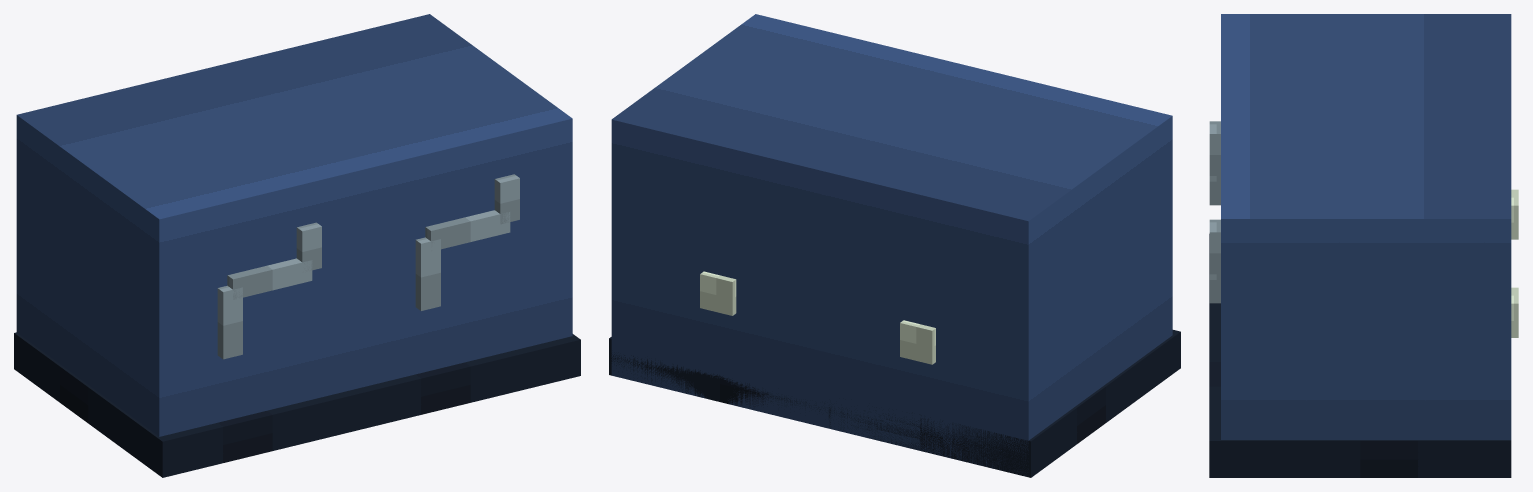
The model's file is yuanying_xinghe_boots.obj.
3 views of the same model, side by side, from view 1: azimuth 30°, elevation 25°; view 2: azimuth 150°, elevation 25°; view 3: azimuth 270°, elevation 25° (orthographic).
Visible parts, largest first — view 1: star_boot_-1, star_boot_1, star_sole_-1, star_sole_1, star_boot_mark_-1_1, star_boot_mark_1_1, star_boot_mark_-1_0, star_boot_mark_1_0, star_boot_mark_1_2, star_boot_mark_-1_2; view 2: star_boot_-1, star_boot_1, star_sole_-1, star_sole_1, star_heel_mark_1, star_heel_mark_-1; view 3: star_boot_1, star_boot_-1, star_sole_1, star_boot_mark_1_2, star_boot_mark_-1_2, star_sole_-1, star_heel_mark_-1, star_heel_mark_1.
Boxes of the visible parts, box(x1,y1,x2,y2) form: star_boot_-1: box(16, 62, 374, 436); star_boot_1: box(216, 14, 572, 384); star_sole_-1: box(14, 332, 382, 477); star_sole_1: box(355, 334, 580, 429); star_boot_mark_-1_1: box(227, 258, 312, 299); star_boot_mark_1_1: box(425, 210, 510, 250); star_boot_mark_-1_0: box(217, 285, 242, 359); star_boot_mark_1_0: box(415, 237, 440, 310); star_boot_mark_1_2: box(494, 174, 519, 224); star_boot_mark_-1_2: box(296, 222, 321, 271); star_boot_-1: box(811, 63, 1172, 475); star_boot_1: box(611, 14, 969, 428); star_sole_-1: box(829, 330, 1180, 477); star_sole_1: box(609, 337, 830, 426); star_heel_mark_1: box(700, 271, 736, 315); star_heel_mark_-1: box(900, 320, 935, 364); star_boot_1: box(1221, 112, 1511, 439); star_boot_-1: box(1221, 14, 1511, 120); star_sole_1: box(1209, 343, 1511, 477); star_boot_mark_1_2: box(1209, 222, 1220, 274); star_boot_mark_-1_2: box(1209, 124, 1220, 175); star_sole_-1: box(1209, 234, 1220, 342); star_heel_mark_-1: box(1511, 189, 1518, 239); star_heel_mark_1: box(1511, 287, 1518, 337).
Bounding box in the file's own units: 0.5281 × 0.3063 × 0.3331.
